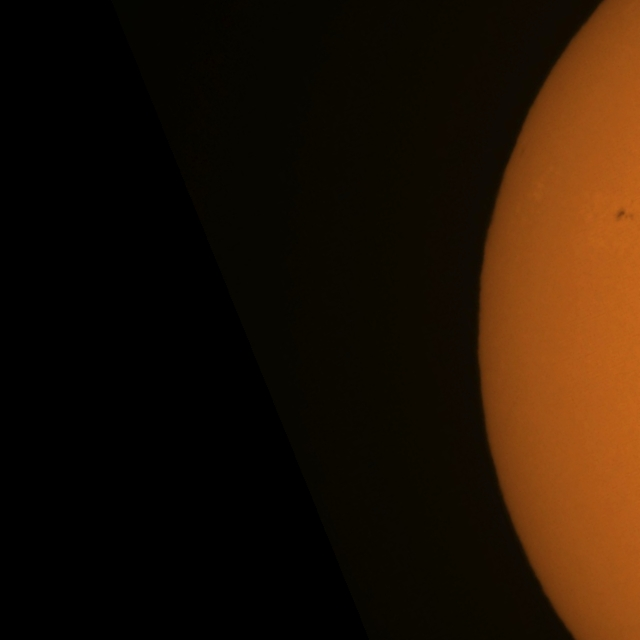sunspot: (613, 201, 638, 224)
